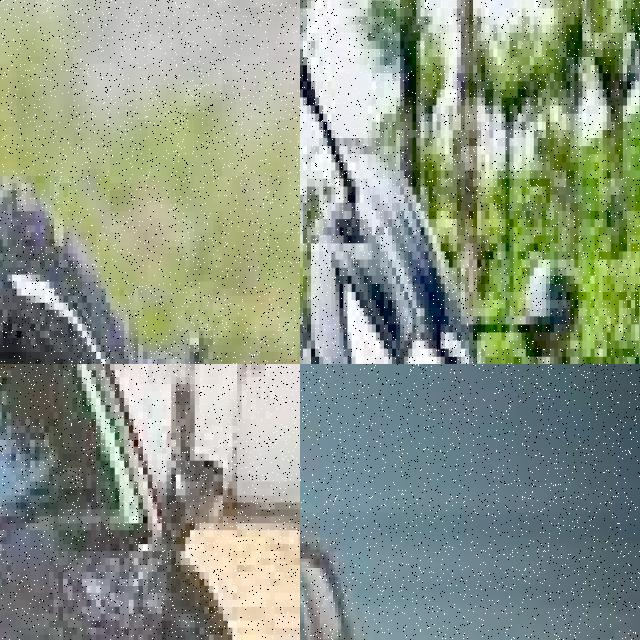bike: (300, 97, 574, 364), (0, 260, 300, 364)
car: (0, 364, 284, 640), (300, 565, 640, 640)
